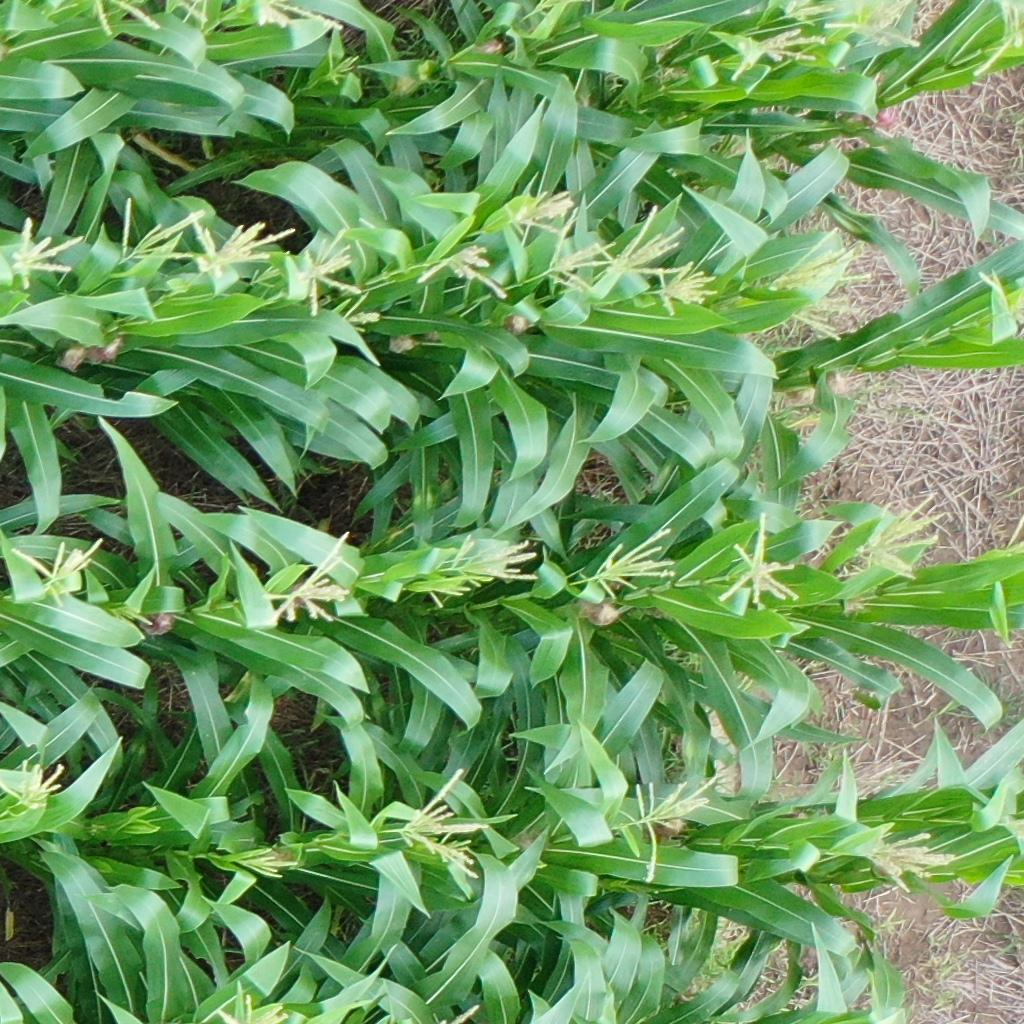Tassel: (757, 224, 874, 340), (619, 763, 723, 880), (388, 768, 493, 881), (249, 530, 364, 630), (711, 507, 806, 613), (853, 491, 945, 580), (594, 200, 689, 276), (585, 528, 677, 605), (543, 208, 620, 297), (8, 533, 104, 604), (843, 826, 955, 886), (190, 216, 296, 274), (295, 227, 365, 313), (416, 236, 513, 298), (726, 27, 826, 85), (119, 197, 205, 263), (444, 528, 546, 580), (11, 215, 82, 288), (499, 183, 576, 244), (826, 1, 924, 48), (1, 754, 73, 816), (84, 1, 210, 34), (652, 259, 719, 319), (399, 566, 493, 607), (232, 1, 343, 32), (975, 1, 1024, 71), (216, 842, 300, 881), (973, 269, 1024, 329), (337, 290, 382, 335), (989, 515, 1024, 564), (111, 600, 157, 633), (324, 46, 358, 89), (781, 1, 837, 26), (525, 1, 575, 18), (1003, 817, 1024, 850)
